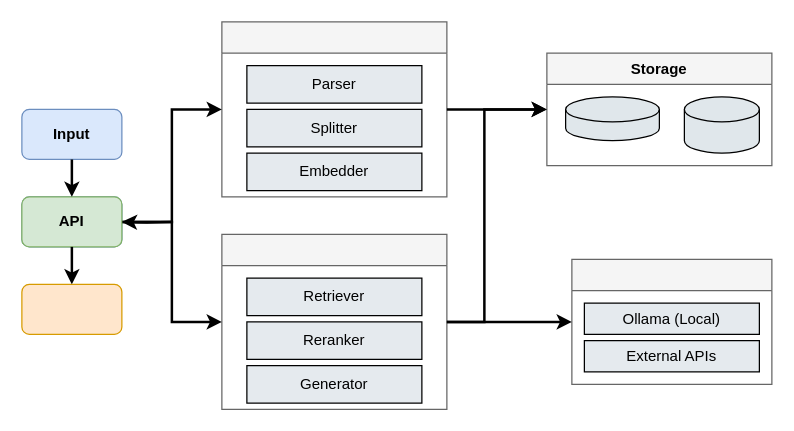
Image size: 794x431. Some labels were removed from this diagram. Here are the shapes that lost their labels. From the top down, the box of each, then its label:
(221, 21, 447, 197): Ingestion Pipeline
(564, 96, 659, 141): ChromaDB
(683, 96, 759, 153): Metadata DB
(21, 283, 122, 334): Output
(221, 233, 447, 409): RAG Core
(571, 258, 772, 384): LLM Providers
